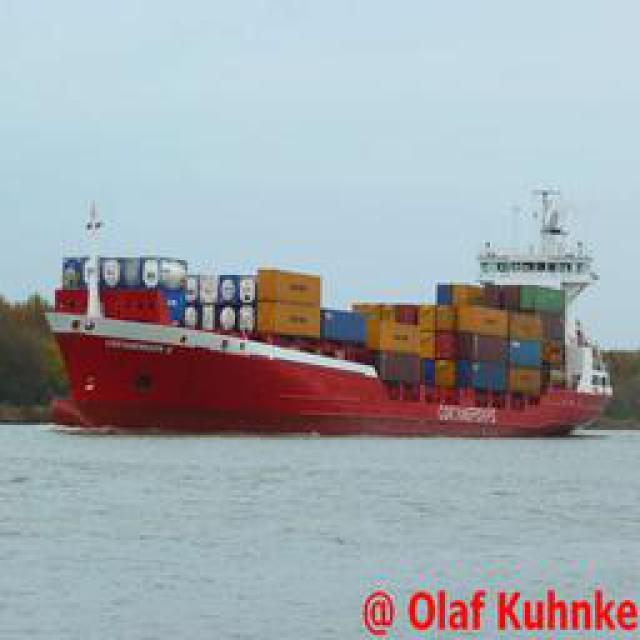Ship: (52, 185, 632, 435)
